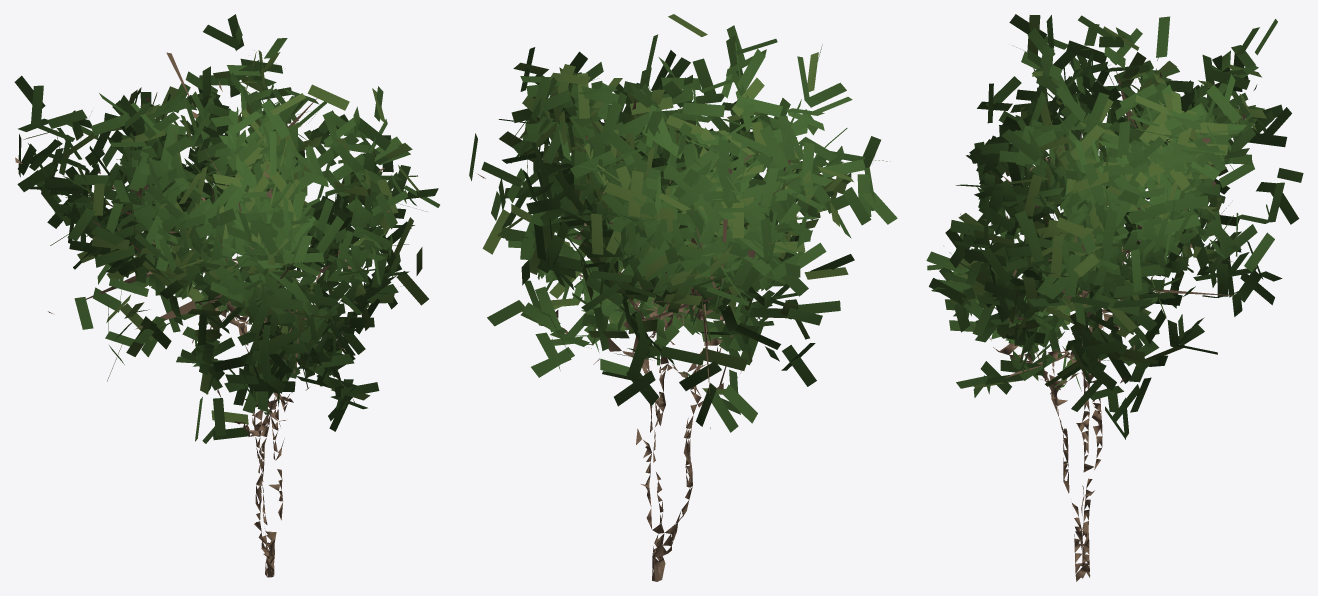
Rendered from arvore_2.glb.
3 views of the same model, side by side, from view 1: azimuth 30°, elevation 25°; view 2: azimuth 150°, elevation 25°; view 3: azimuth 270°, elevation 25° (orthographic). The views are drawn at different scales.
Parts seen in each view (by area): view 1: arvore_2; view 2: arvore_2; view 3: arvore_2.
Boxes of the visible parts, box(x1,y1,x2,y2) form: arvore_2: box(14, 14, 439, 577); arvore_2: box(469, 14, 897, 581); arvore_2: box(926, 14, 1303, 581).
Size of the model in its own units: 2.24 by 2.9 by 1.91.
